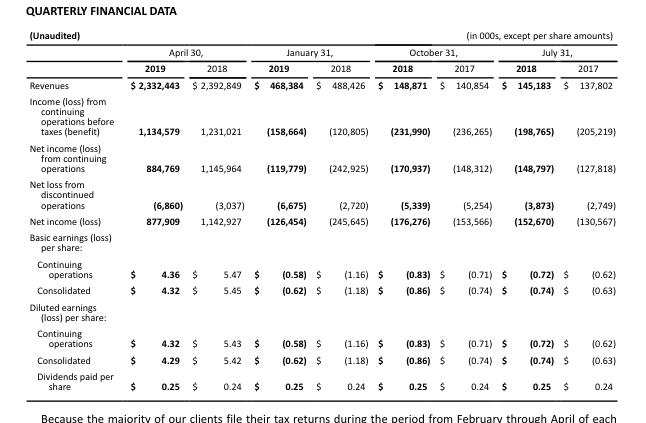table: (28, 28, 615, 392)
table column: (28, 28, 121, 392), (121, 28, 186, 392), (186, 28, 248, 392), (248, 28, 310, 392), (310, 28, 372, 392), (372, 28, 434, 392), (434, 28, 496, 392), (496, 28, 558, 392), (558, 28, 615, 392)
table column header: (28, 28, 615, 75)
table projected row header: (28, 228, 615, 255), (28, 298, 615, 324)
table row: (28, 92, 615, 139), (28, 175, 615, 212), (28, 139, 615, 175), (28, 228, 615, 255), (28, 324, 615, 351), (28, 255, 615, 281), (28, 298, 615, 324), (28, 367, 615, 392), (28, 75, 615, 92), (28, 281, 615, 298), (28, 43, 615, 59), (28, 59, 615, 75), (28, 212, 615, 228), (28, 351, 615, 367), (28, 28, 615, 43)
table spanning cell: (121, 28, 615, 43), (28, 28, 121, 75), (121, 43, 248, 59), (248, 43, 372, 59), (372, 43, 496, 59), (496, 43, 615, 59)
